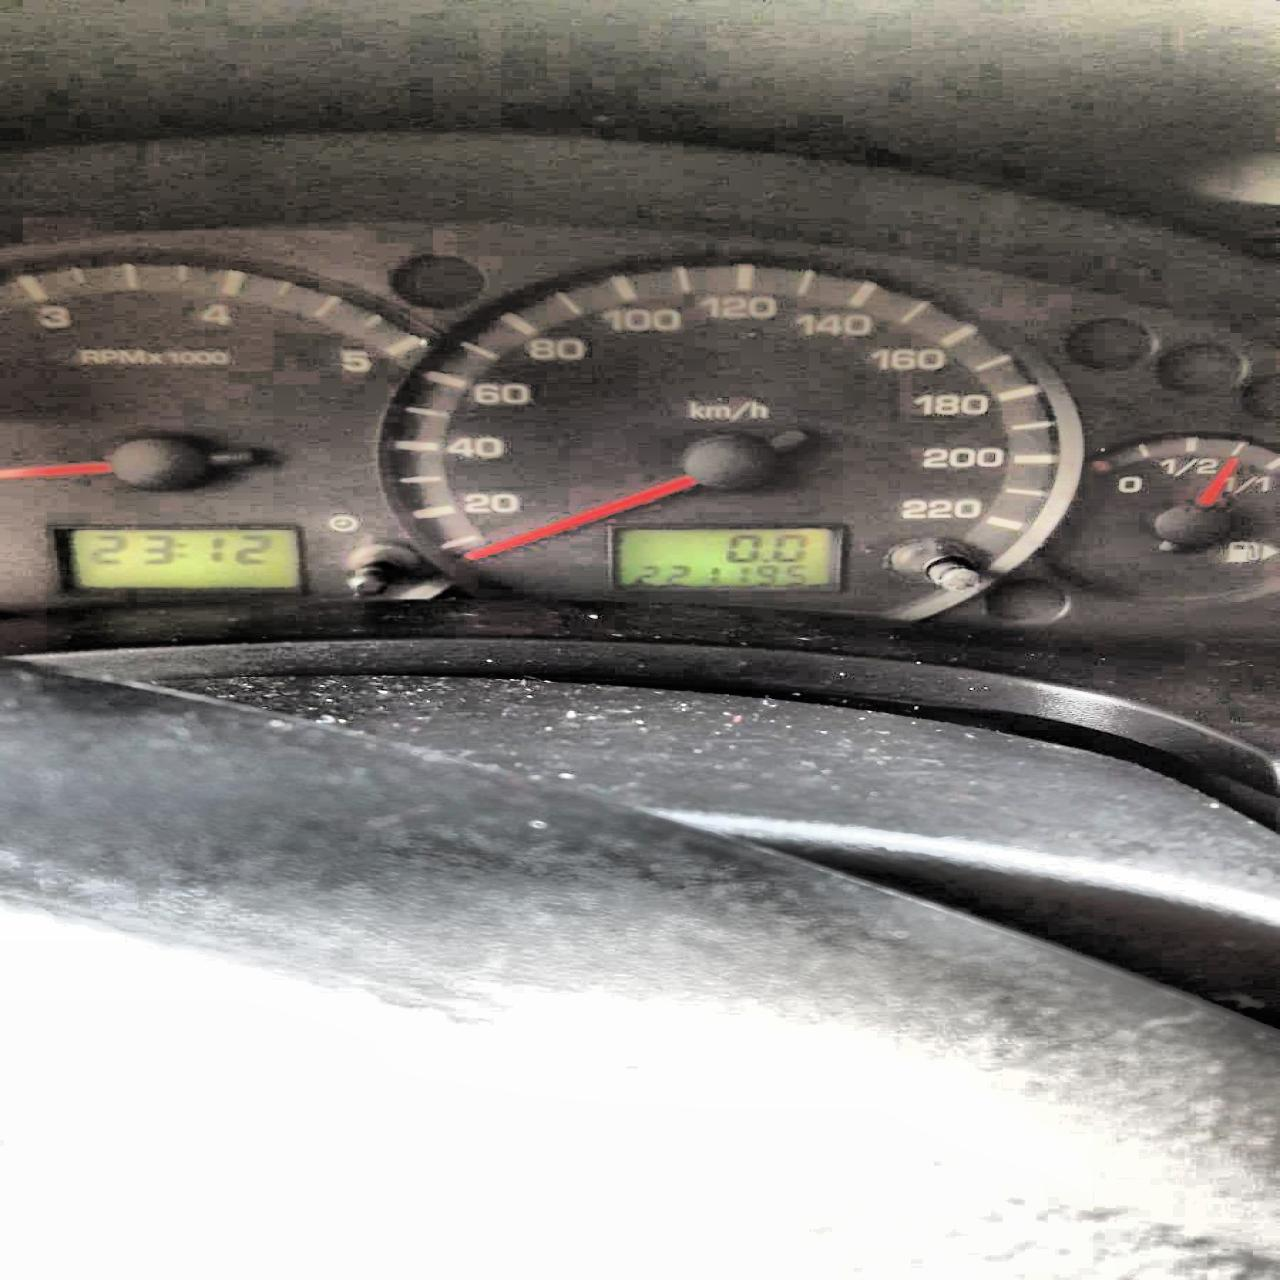-: (761, 558, 770, 563)
0: (724, 533, 761, 561), (771, 535, 804, 561)
1: (736, 566, 749, 584), (708, 566, 720, 584)
2: (665, 565, 689, 585), (635, 565, 658, 584)
5: (783, 565, 806, 584)
9: (753, 565, 776, 585)
odometer: (610, 526, 835, 588)
